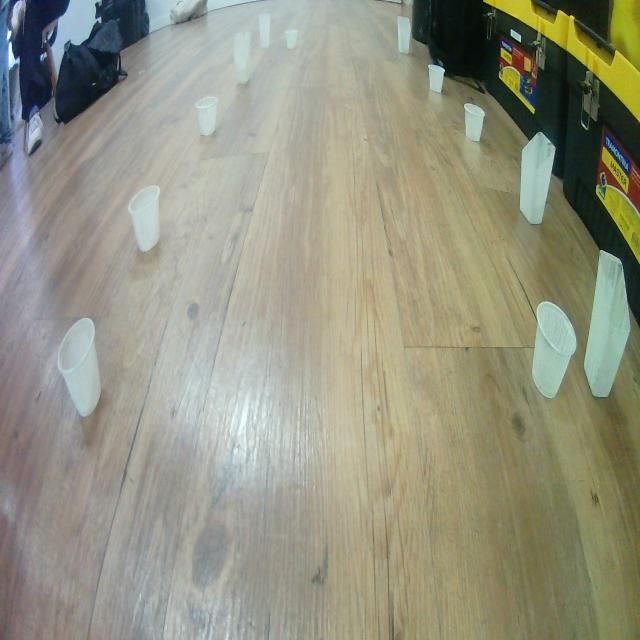erva_daninha: (583, 249, 631, 399), (518, 131, 556, 225), (232, 31, 252, 86), (397, 15, 411, 55), (258, 13, 272, 50)
planta: (57, 317, 102, 419), (532, 300, 577, 400), (128, 184, 161, 252), (196, 96, 219, 136), (464, 103, 486, 142), (428, 64, 445, 94), (285, 29, 298, 50)
